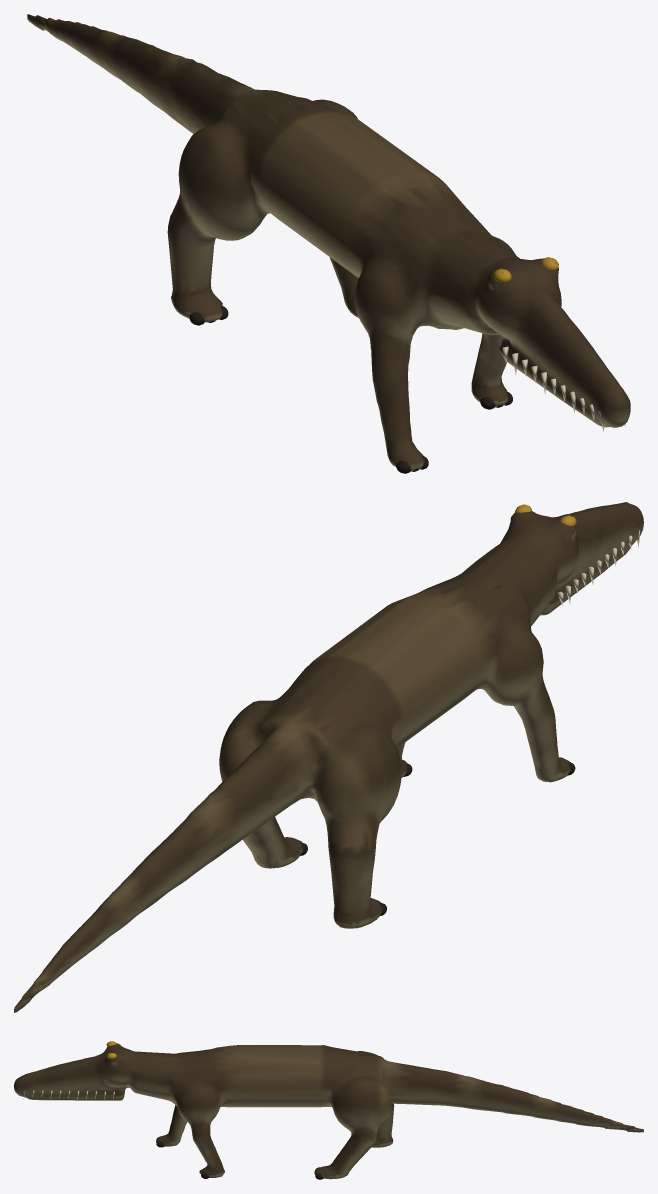
Rendered from BoverisuchusMagnifrontis.fbx.
The picture shows the model from 3 angles, top to bottom: view 1: azimuth 30°, elevation 25°; view 2: azimuth 150°, elevation 25°; view 3: azimuth 270°, elevation 25°; orthographic projection. The views are drawn at different scales.
Visible parts, largest first — view 1: BoverisuchusMagnifrontis; view 2: BoverisuchusMagnifrontis; view 3: BoverisuchusMagnifrontis.
Boxes of the visible parts, bbox=[...] form: BoverisuchusMagnifrontis: bbox=[27, 14, 630, 473]; BoverisuchusMagnifrontis: bbox=[14, 502, 643, 1012]; BoverisuchusMagnifrontis: bbox=[14, 1041, 643, 1179].
Bounding box in the file's own units: 0.4018 × 0.5081 × 2.54.
